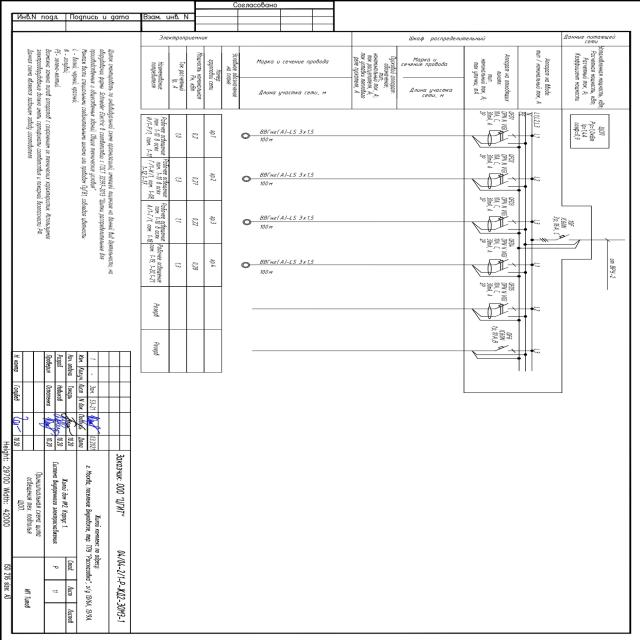-: (478, 236, 508, 256), (478, 109, 507, 129), (479, 281, 508, 301), (478, 152, 507, 172), (478, 196, 507, 216), (488, 324, 505, 344), (550, 214, 566, 234), (598, 125, 604, 136)
QF: (554, 233, 574, 241), (494, 344, 509, 352)
QFD: (486, 214, 511, 232), (486, 128, 510, 146), (486, 172, 510, 189), (486, 258, 510, 275), (486, 302, 510, 318)
